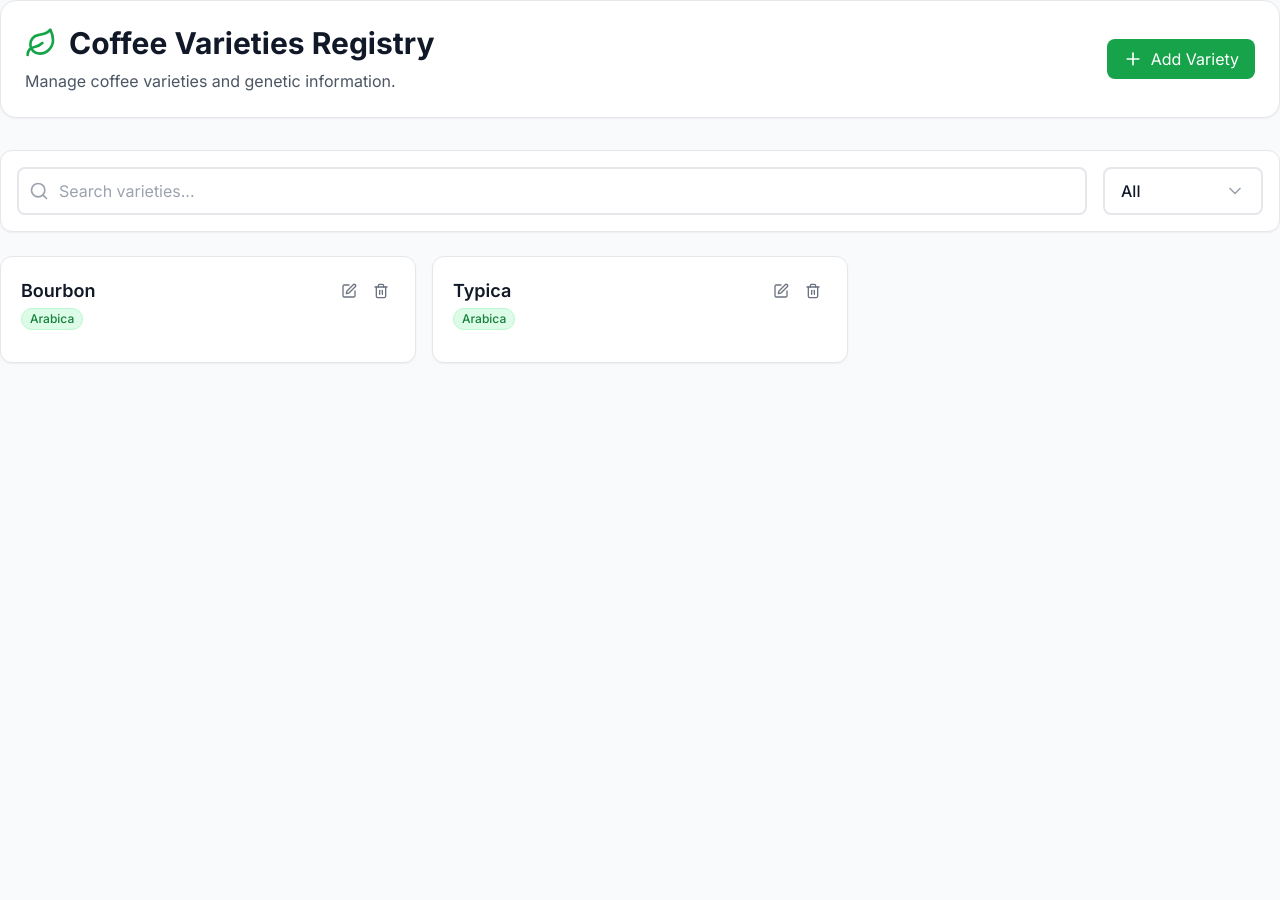
Scenario: Coffee Varieties duplicate names › blocks adding "bourbon" while "Bourbon" exists
Expected: the heading "Typica" is shown, left=453, top=277, right=515, bottom=305
Click the button "Add Variety": (1181, 59) left=1107, top=39, right=1255, bottom=79
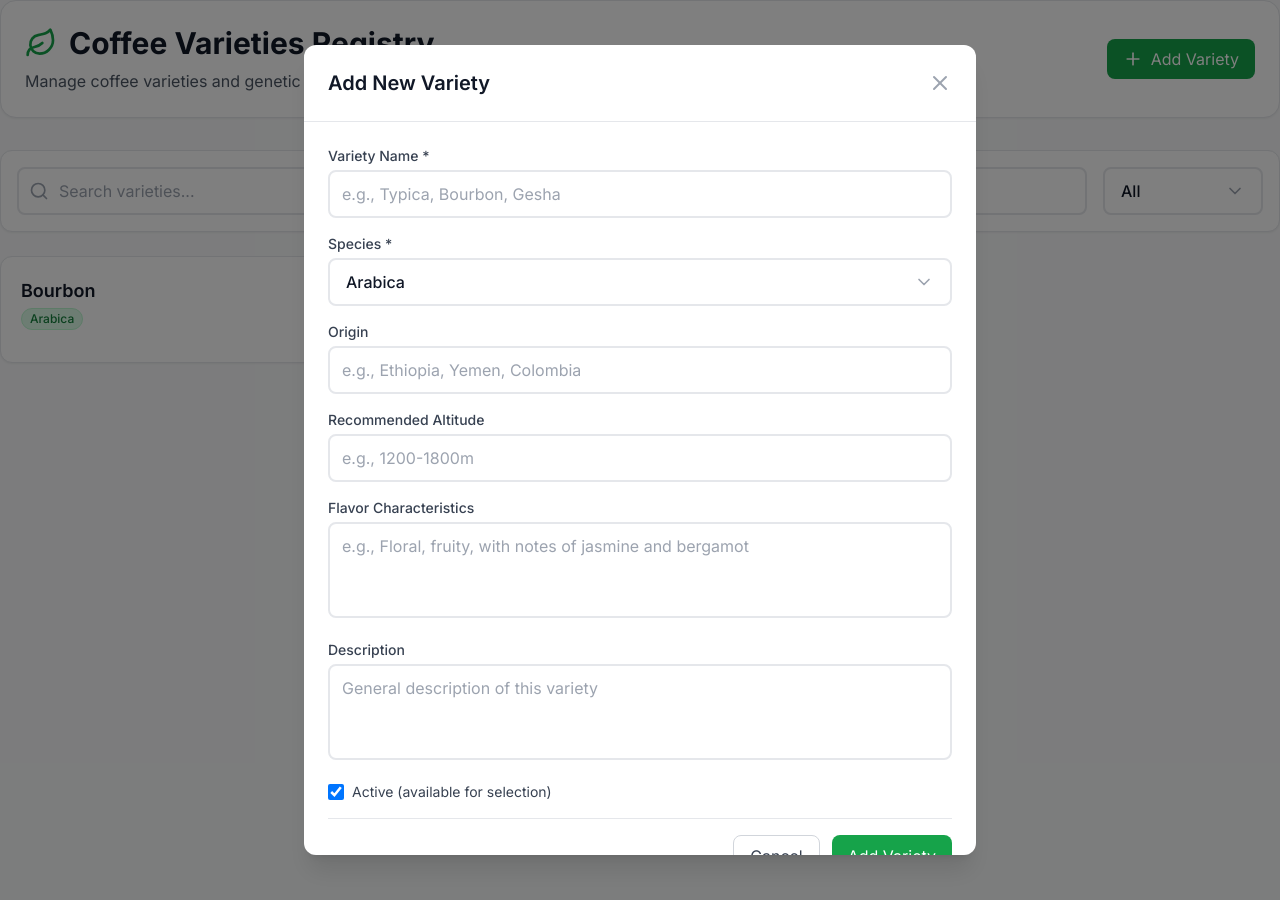
In the field with placeholder "e.g., Typica, Bourbon, Gesha": (640, 194) left=328, top=170, right=952, bottom=218, type "bourbon"
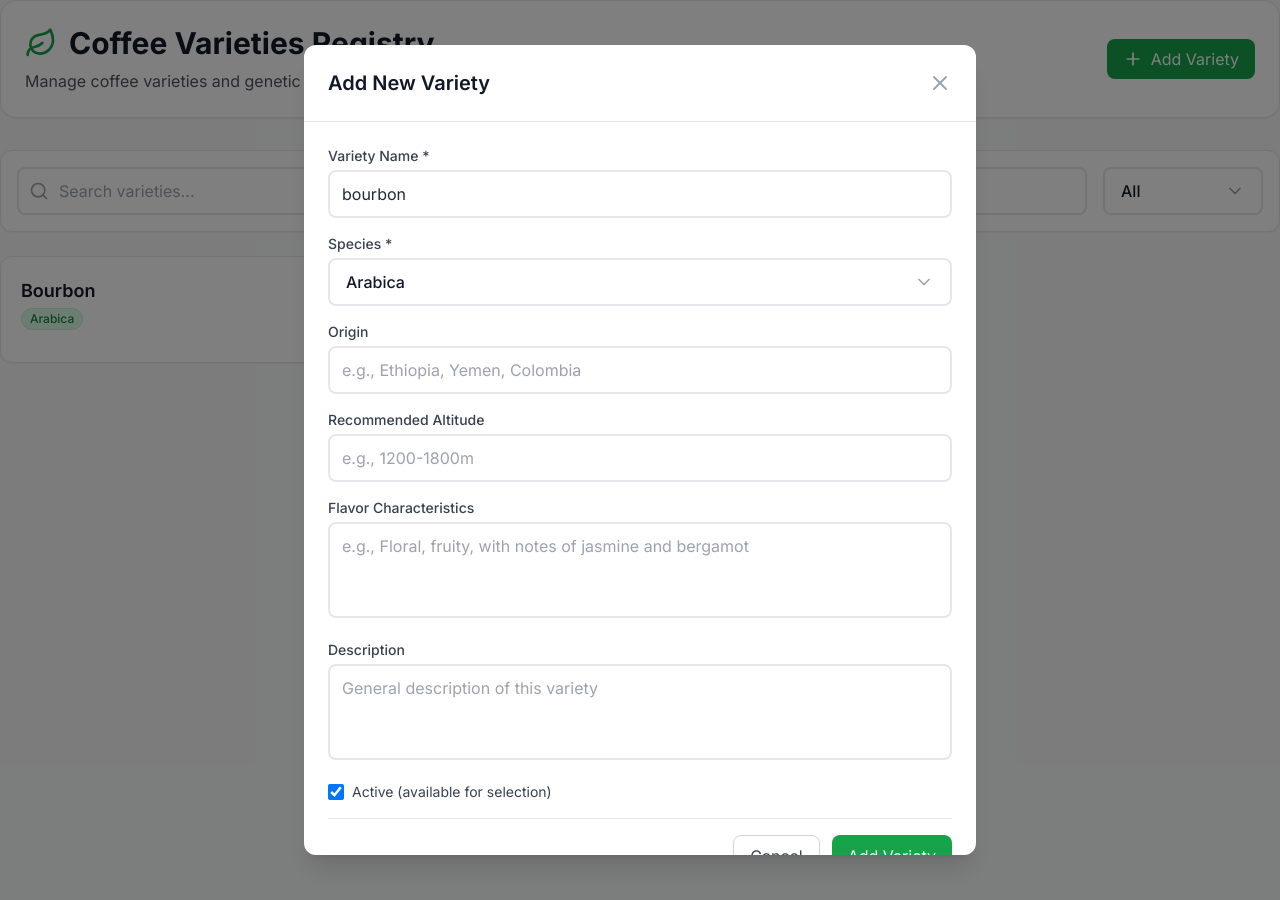
Submit the form with placeholder "e.g., Typica, Bourbon, Gesha", box left=304, top=122, right=976, bottom=899
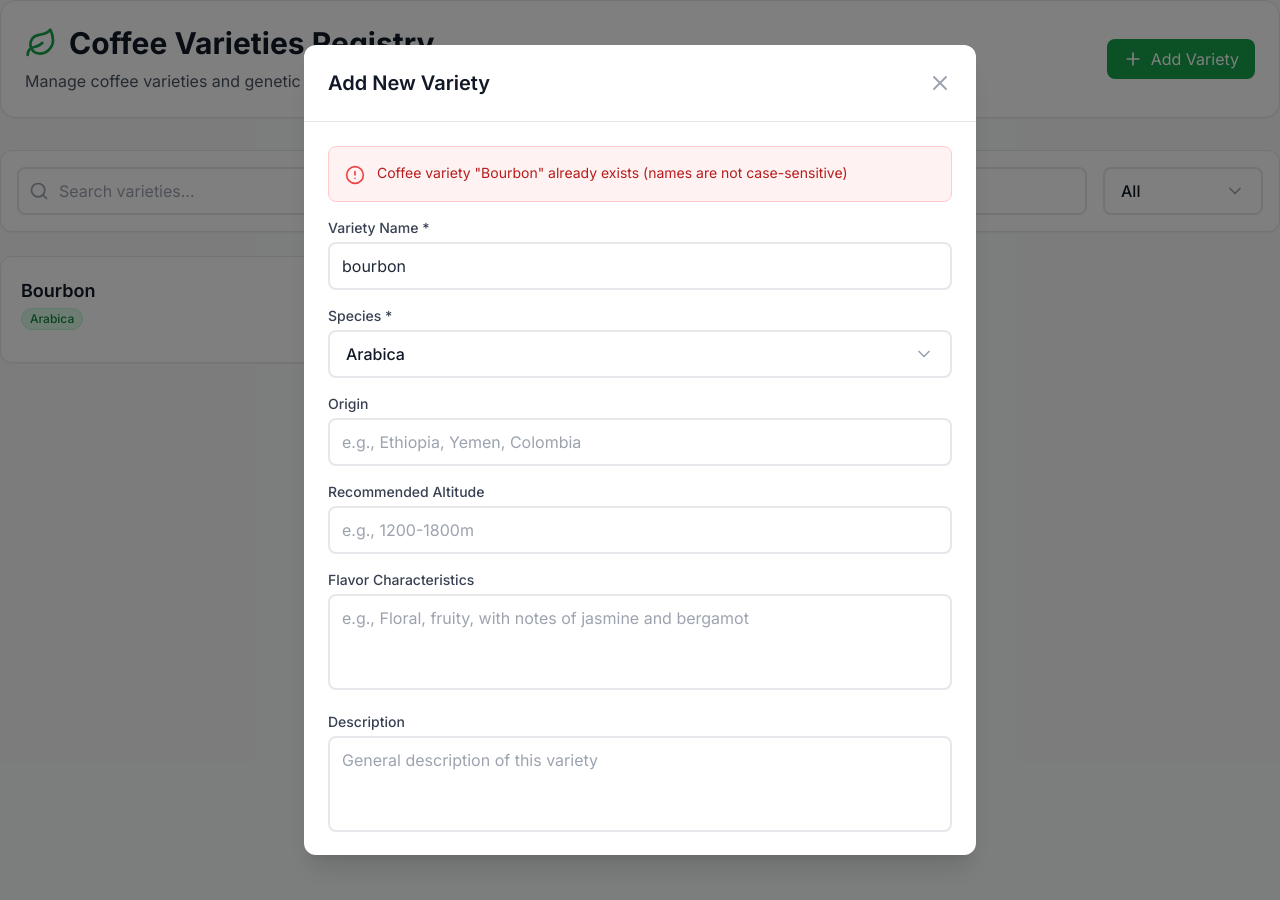
Result: the text "Coffee variety \"Bourbon\" already exists (names are not case-sensitive)" is shown at left=377, top=163, right=848, bottom=183
